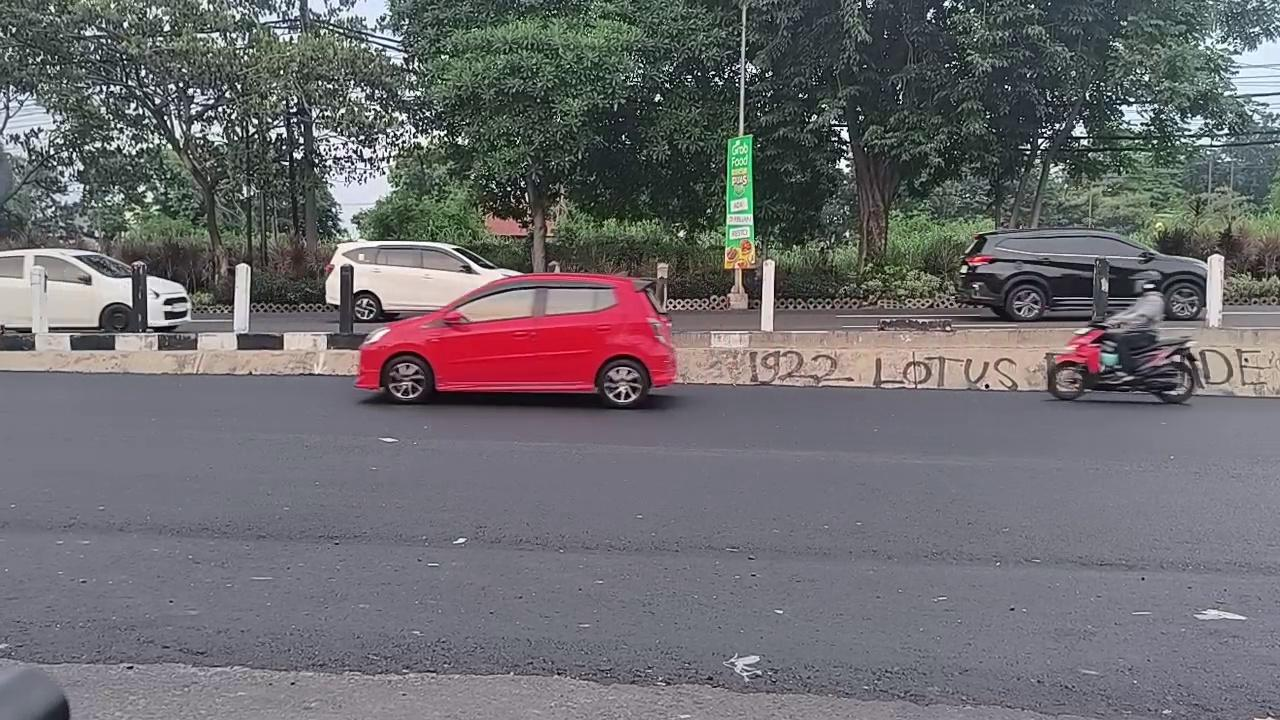Helmet: (1106, 271, 1165, 379)
Motor: (1047, 321, 1202, 403)
